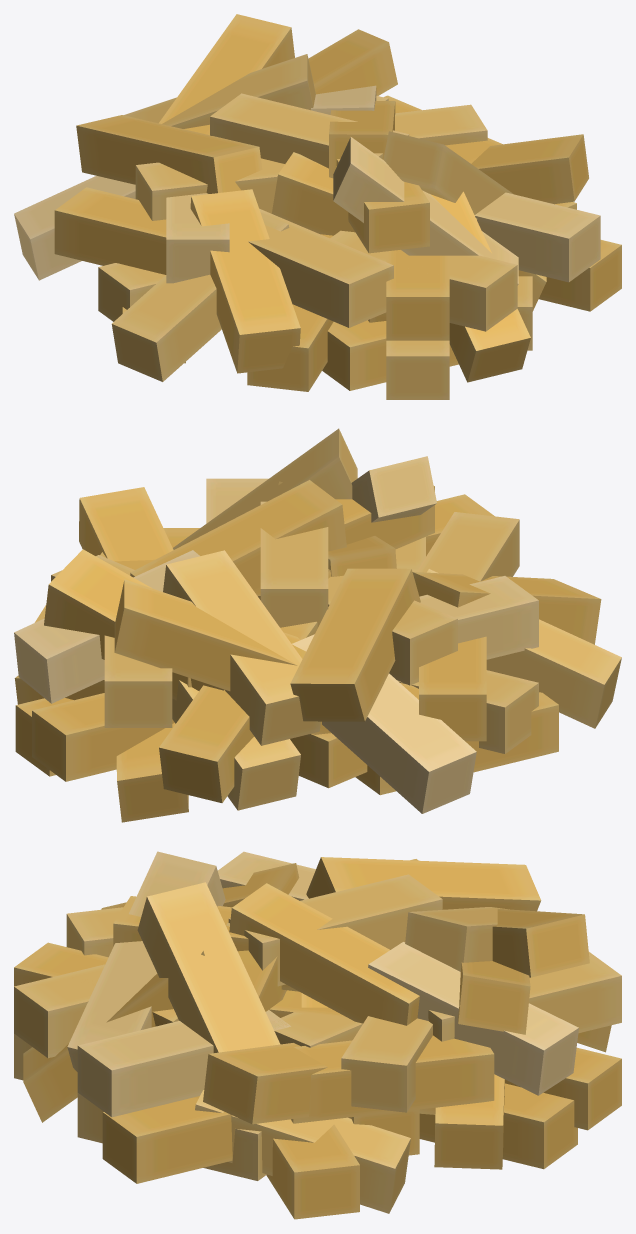
The model's file is ChoppedCheese.fbx.
3 renders of one model, top to bottom at view 1: azimuth 30°, elevation 25°; view 2: azimuth 150°, elevation 25°; view 3: azimuth 270°, elevation 25°, orthographic. The views are drawn at different scales.
Parts seen in each view (by area): view 1: ChoppedCheese; view 2: ChoppedCheese; view 3: ChoppedCheese.
Part boxes in pixels (left/top/right/bottom): ChoppedCheese: left=14, top=14, right=621, bottom=399; ChoppedCheese: left=14, top=428, right=621, bottom=822; ChoppedCheese: left=14, top=851, right=621, bottom=1219.
Size of the model in its own units: 0.7676 by 0.3252 by 0.7644.
1 material, 1 textured.
